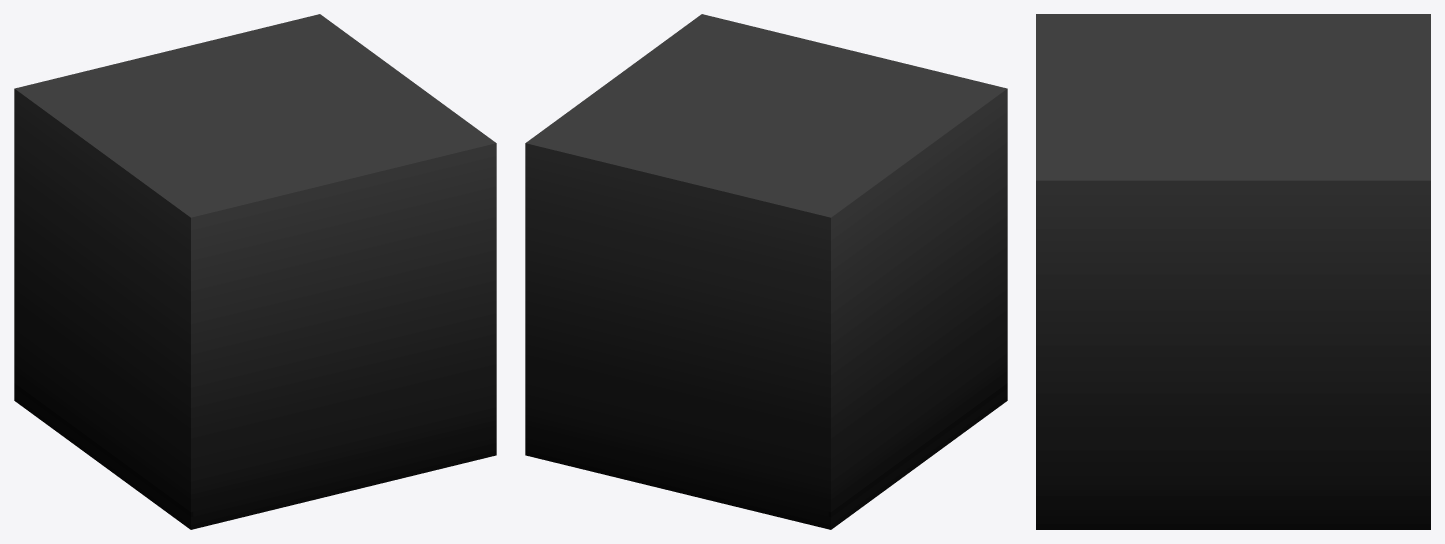
Rendered from tiles-0.obj.
3 views of the same model, side by side, from view 1: azimuth 30°, elevation 25°; view 2: azimuth 150°, elevation 25°; view 3: azimuth 270°, elevation 25° (orthographic). The views are drawn at different scales.
Visible parts, largest first — view 1: tiles-0; view 2: tiles-0; view 3: tiles-0.
Part boxes in pixels (x1=…): tiles-0: x1=14, y1=14, x2=496, y2=529; tiles-0: x1=525, y1=14, x2=1007, y2=529; tiles-0: x1=1036, y1=14, x2=1430, y2=529.
Bounding box in the file's own units: 126 × 123 × 126.
1 material, 1 textured.
